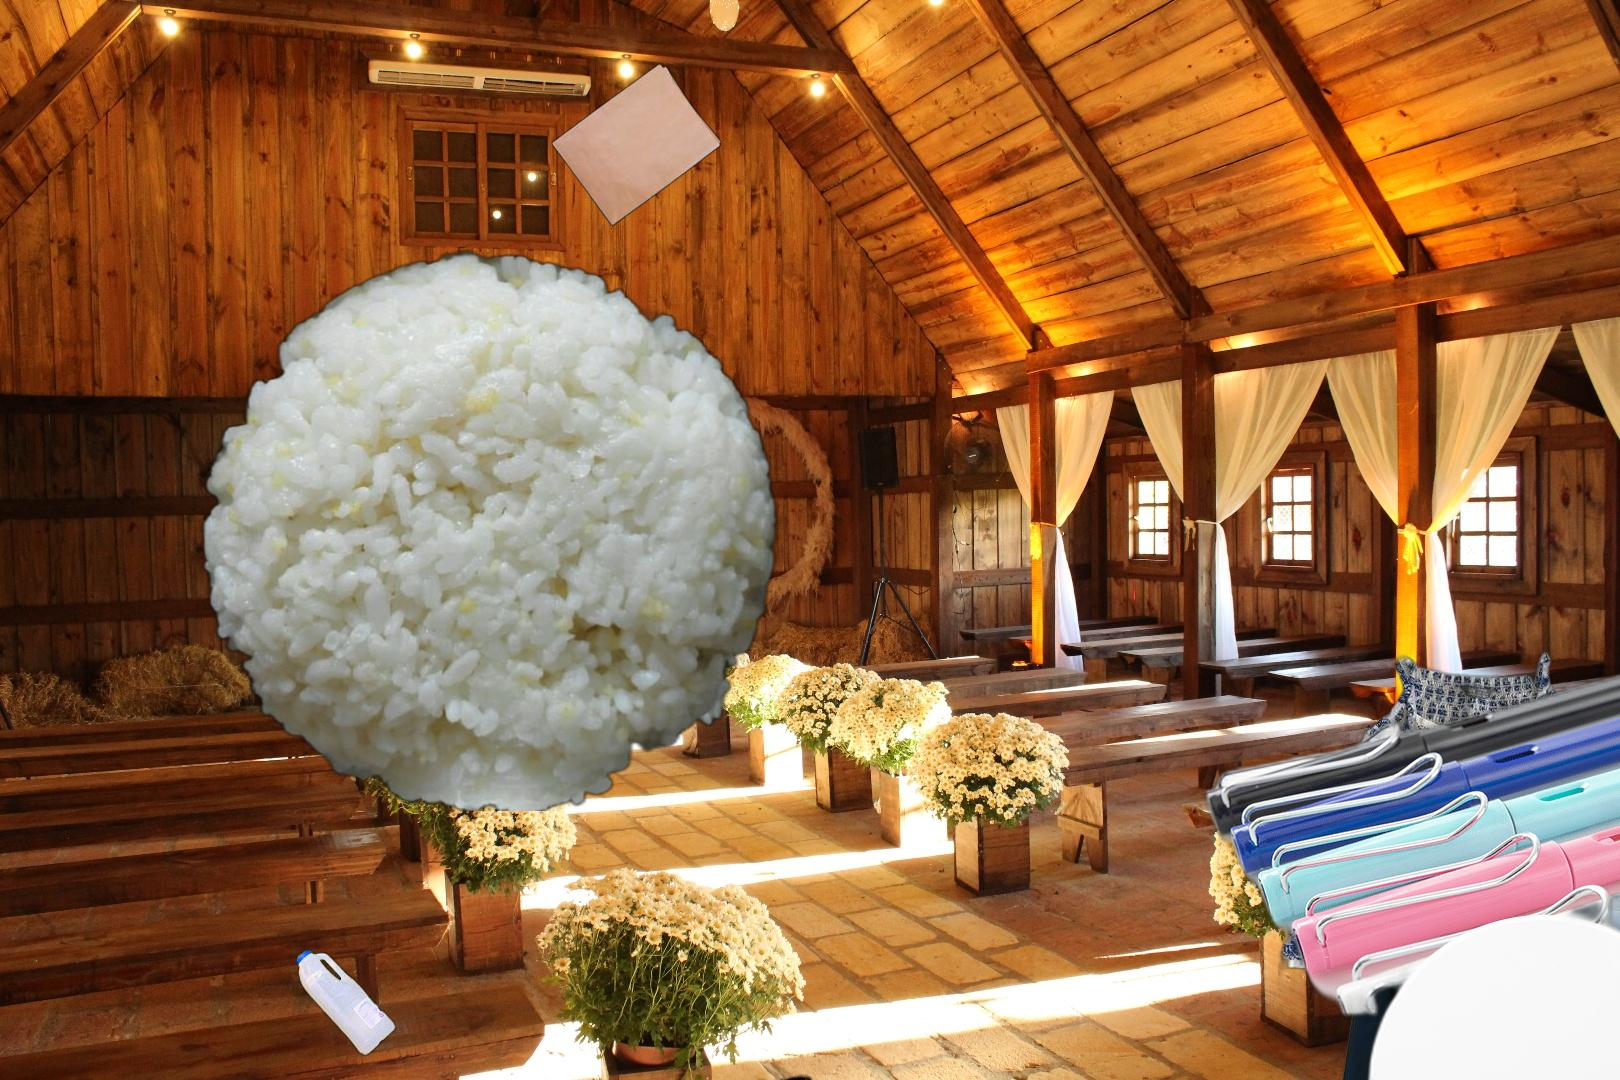biological: (193, 245, 785, 811)
clothes: (1278, 646, 1620, 1012), (1336, 712, 1620, 1080)
glass: (724, 1070, 874, 1080)
paper-bag: (550, 61, 724, 229)
penholder: (1199, 661, 1620, 1080)
plastic-bottles: (293, 944, 399, 1062), (1597, 833, 1620, 985)
